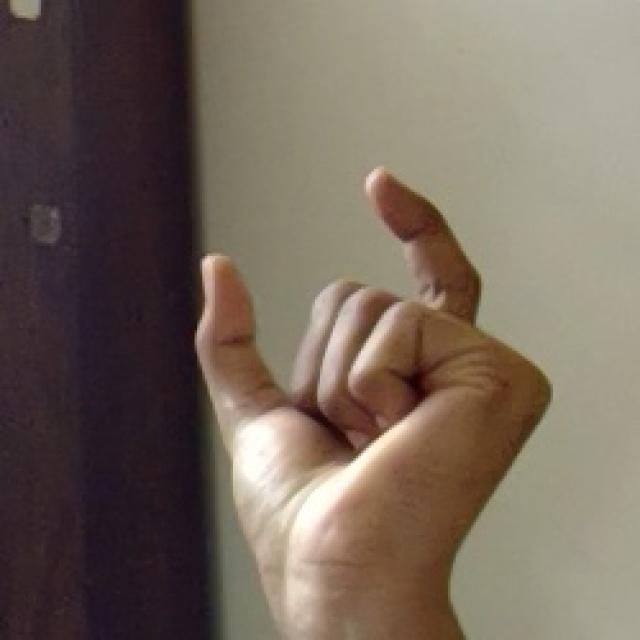Alphabet-U: (196, 96, 599, 631)
